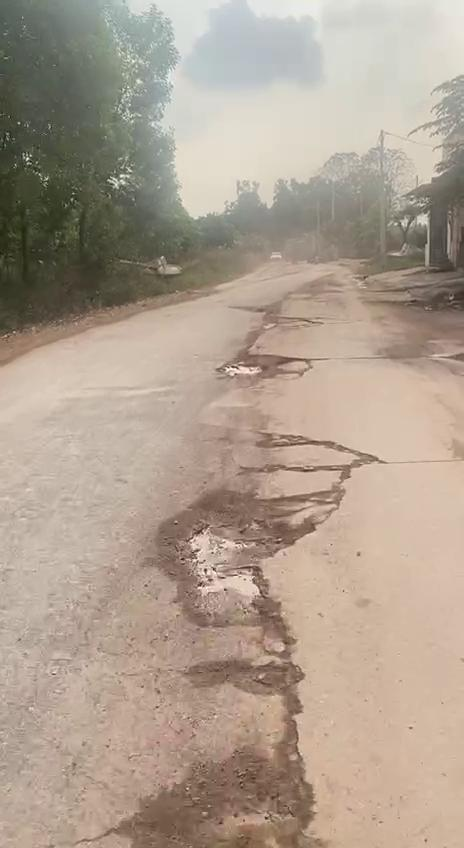pothole: (147, 477, 335, 627), (127, 750, 318, 848), (180, 658, 302, 706), (219, 348, 311, 384)
